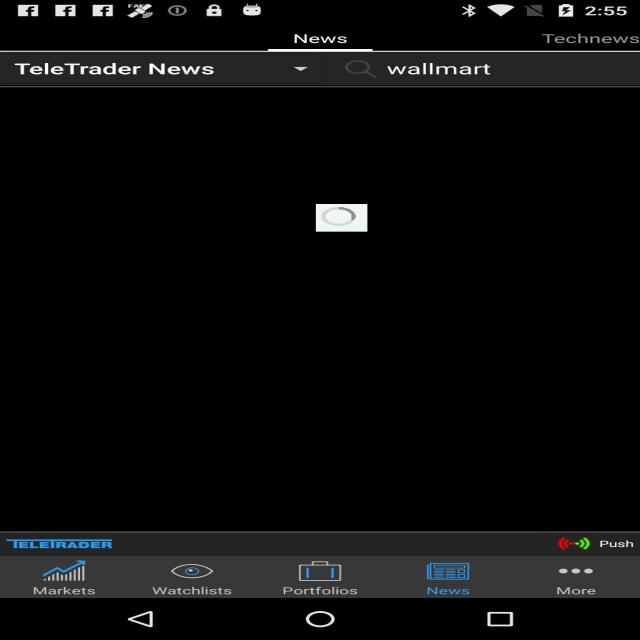misdirection: (316, 204, 367, 232)
